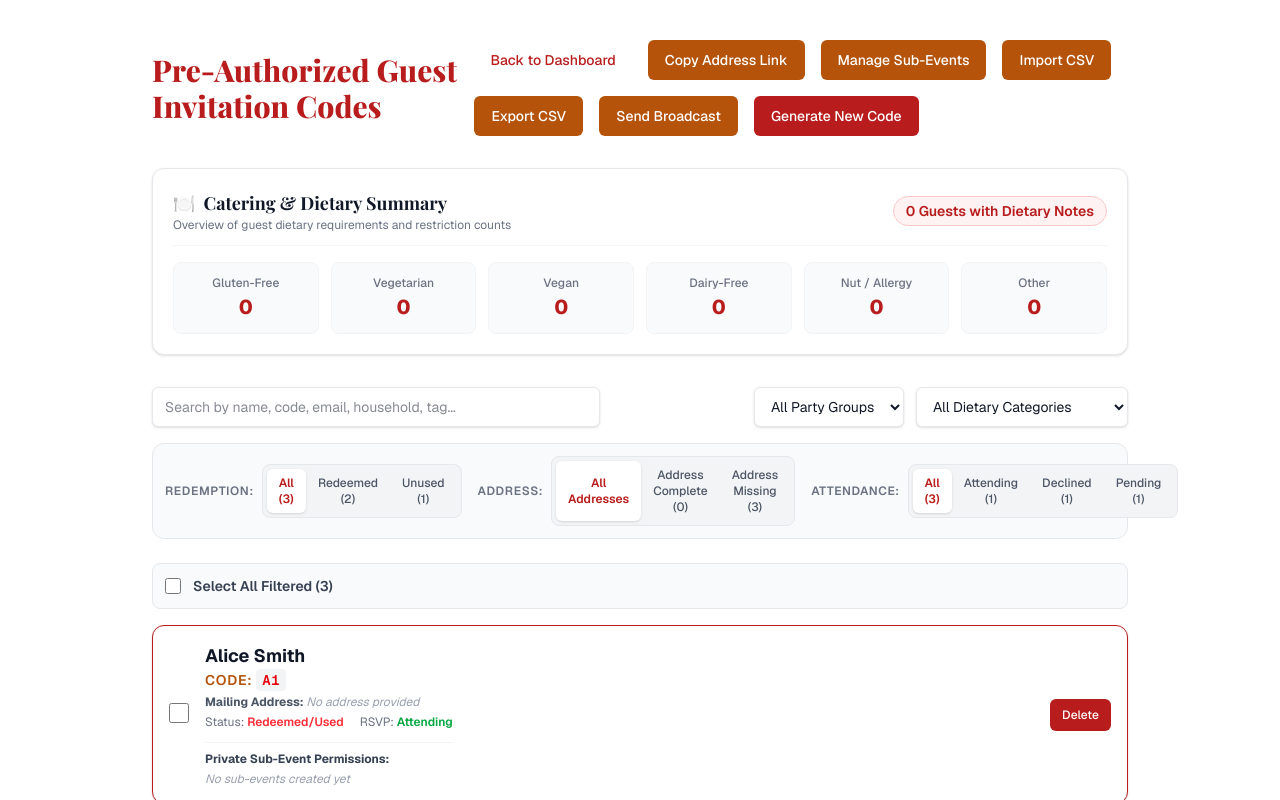
InvitationCodesDashboardPage › combines redemption status filter, attendance filter, and search query
Click the tab "Redeemed (2)" at {"x": 348, "y": 491}, box x1=306 y1=469 x2=390 y2=513
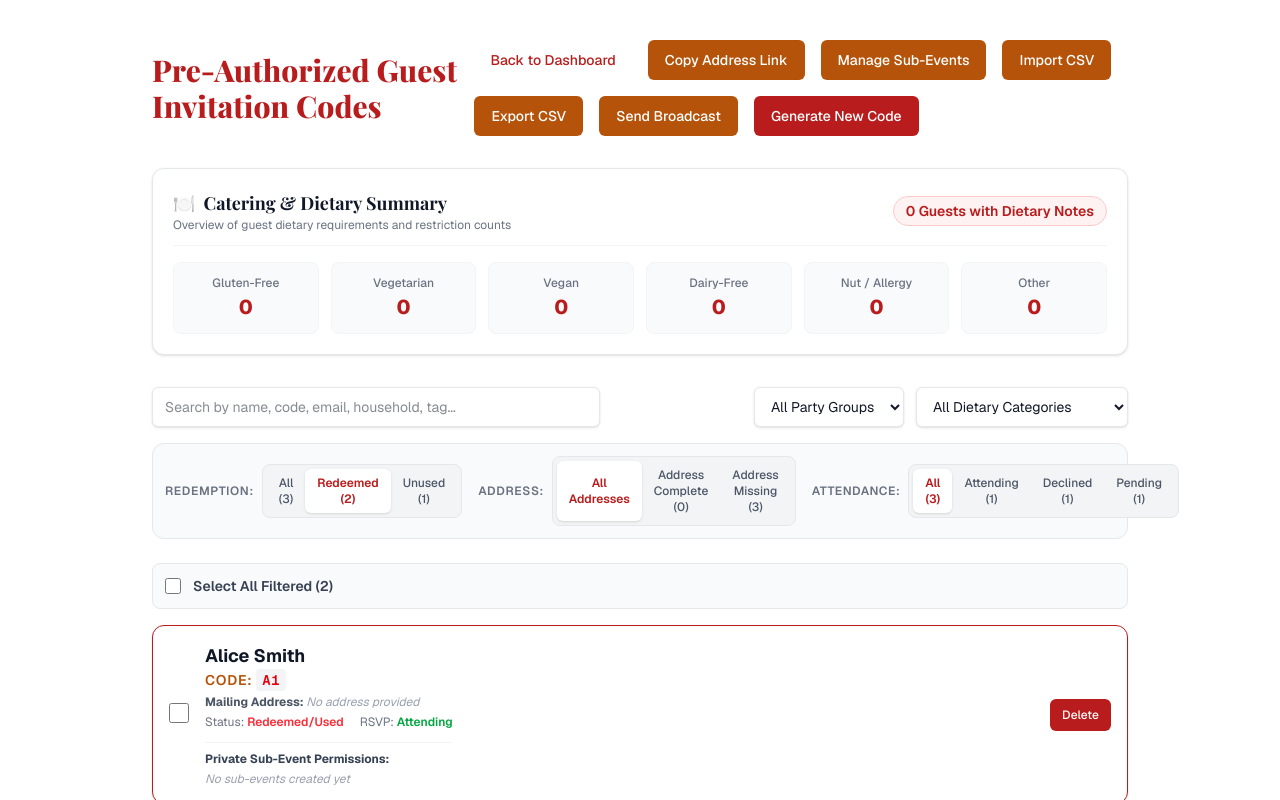
Click the button "Declined (1)" at {"x": 1067, "y": 491}, box x1=1031 y1=469 x2=1104 y2=513
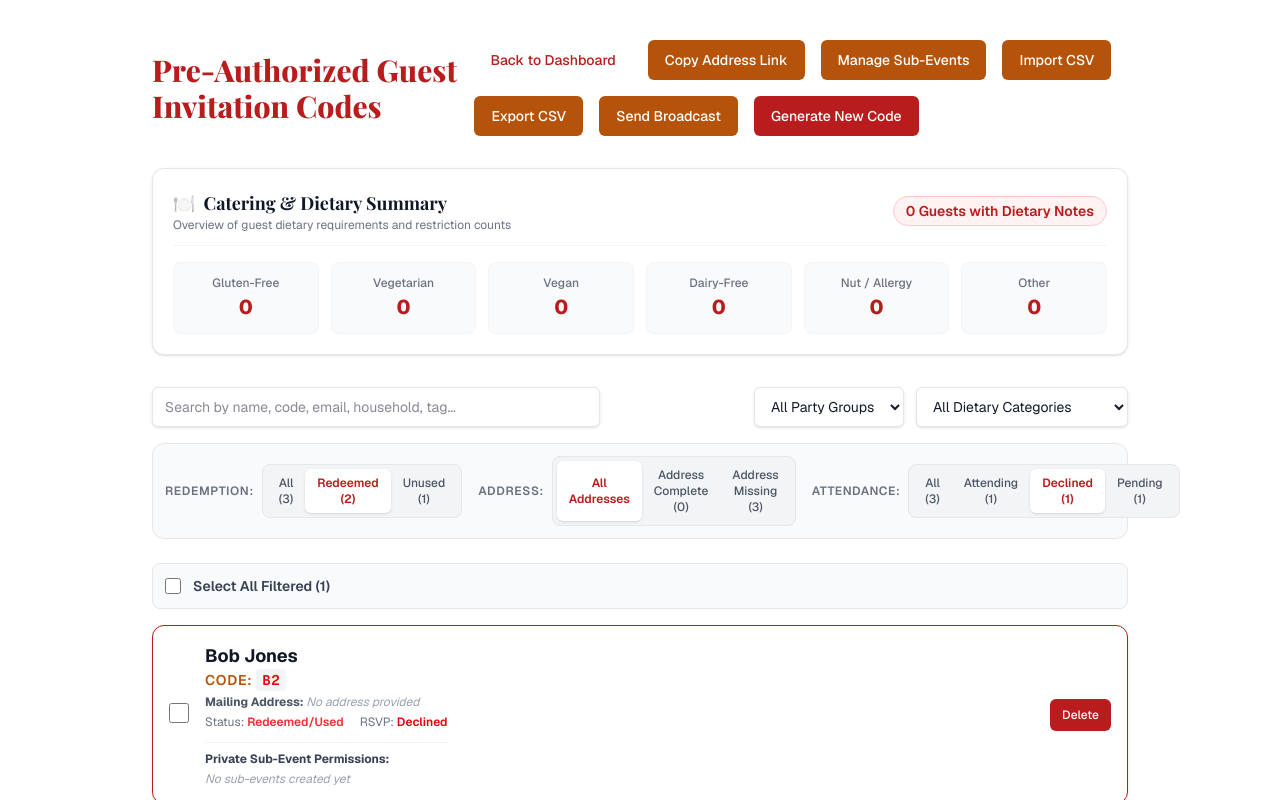
Expected: the text "Bob Jones" is shown, x1=205 y1=642 x2=298 y2=670
Now the text "Alice Smith" is gone
Type "Alice" into the field named "Search invitation codes" at {"x": 376, "y": 407}, box x1=152 y1=387 x2=600 y2=427
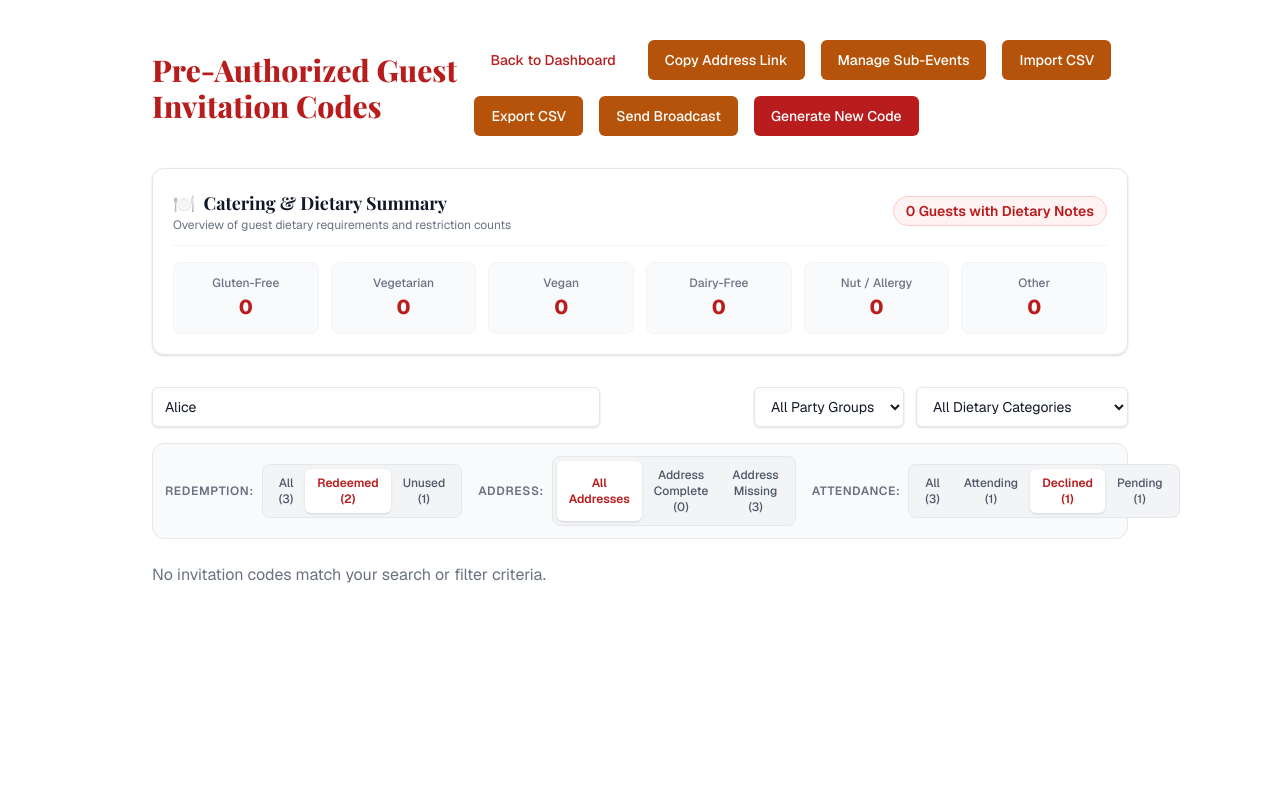
Expected: the text "Alice Smith" is not shown
Now the text "Bob Jones" is gone
Now the text "No invitation codes match your search or filter criteria." is shown, box x1=152 y1=564 x2=546 y2=585
